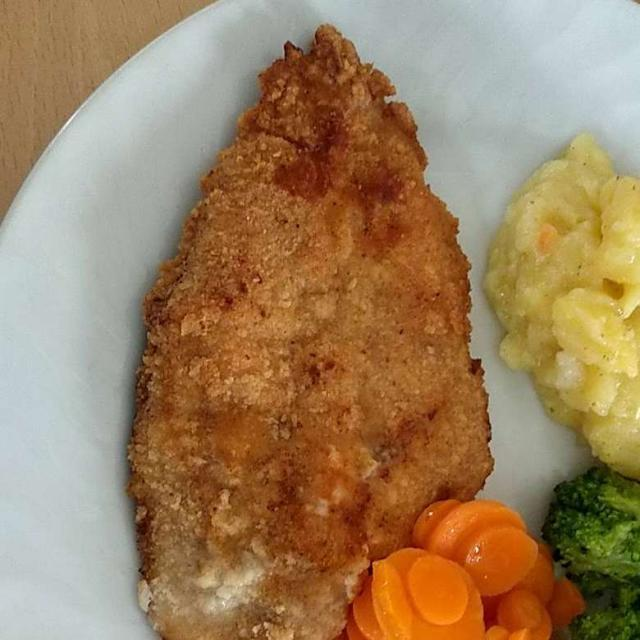carrots: (361, 512, 574, 640)
potatoes: (494, 131, 631, 473)
